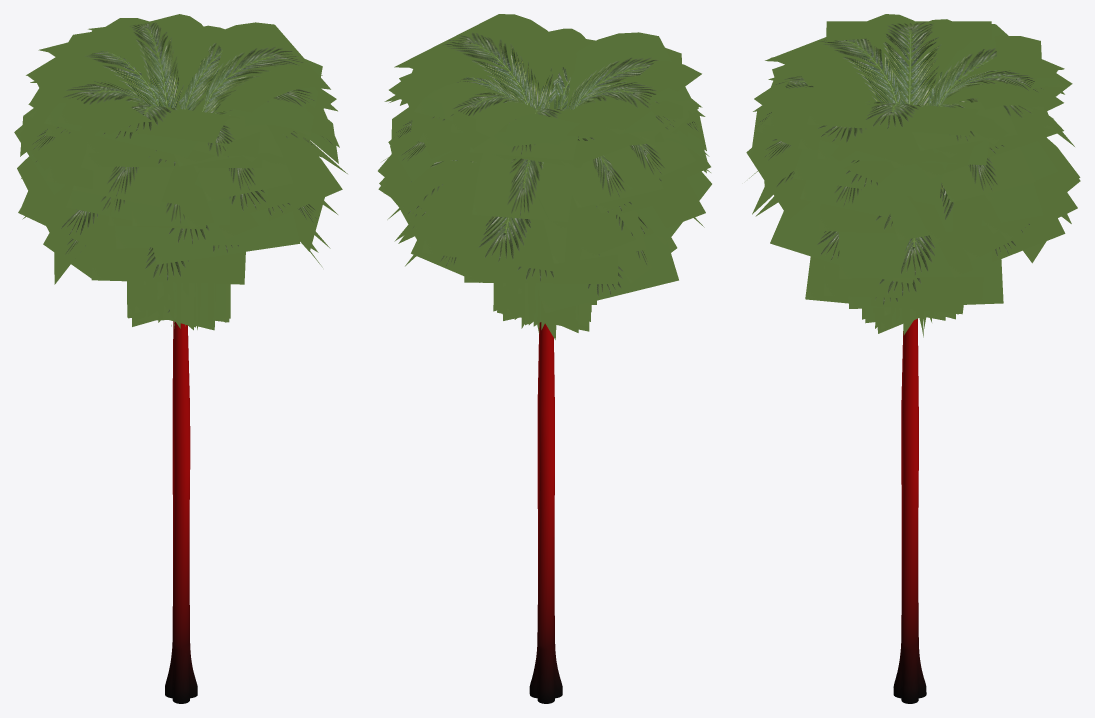
The model's file is Palm_1_7.fbx.
3 views of the same model, side by side, from view 1: azimuth 30°, elevation 25°; view 2: azimuth 150°, elevation 25°; view 3: azimuth 270°, elevation 25° (orthographic).
Visible parts, largest first — view 1: Palm_1_7; view 2: Palm_1_7; view 3: Palm_1_7.
Part boxes in pixels (<box>): Palm_1_7: <box>14,14,347,703</box>; Palm_1_7: <box>378,14,711,703</box>; Palm_1_7: <box>746,14,1080,703</box>.
Bounding box in the file's own units: 1783 × 3607 × 1771.
